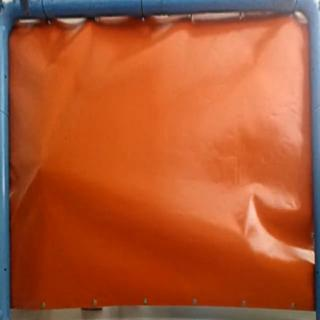Hit-hRxx: (34, 167, 44, 176)
